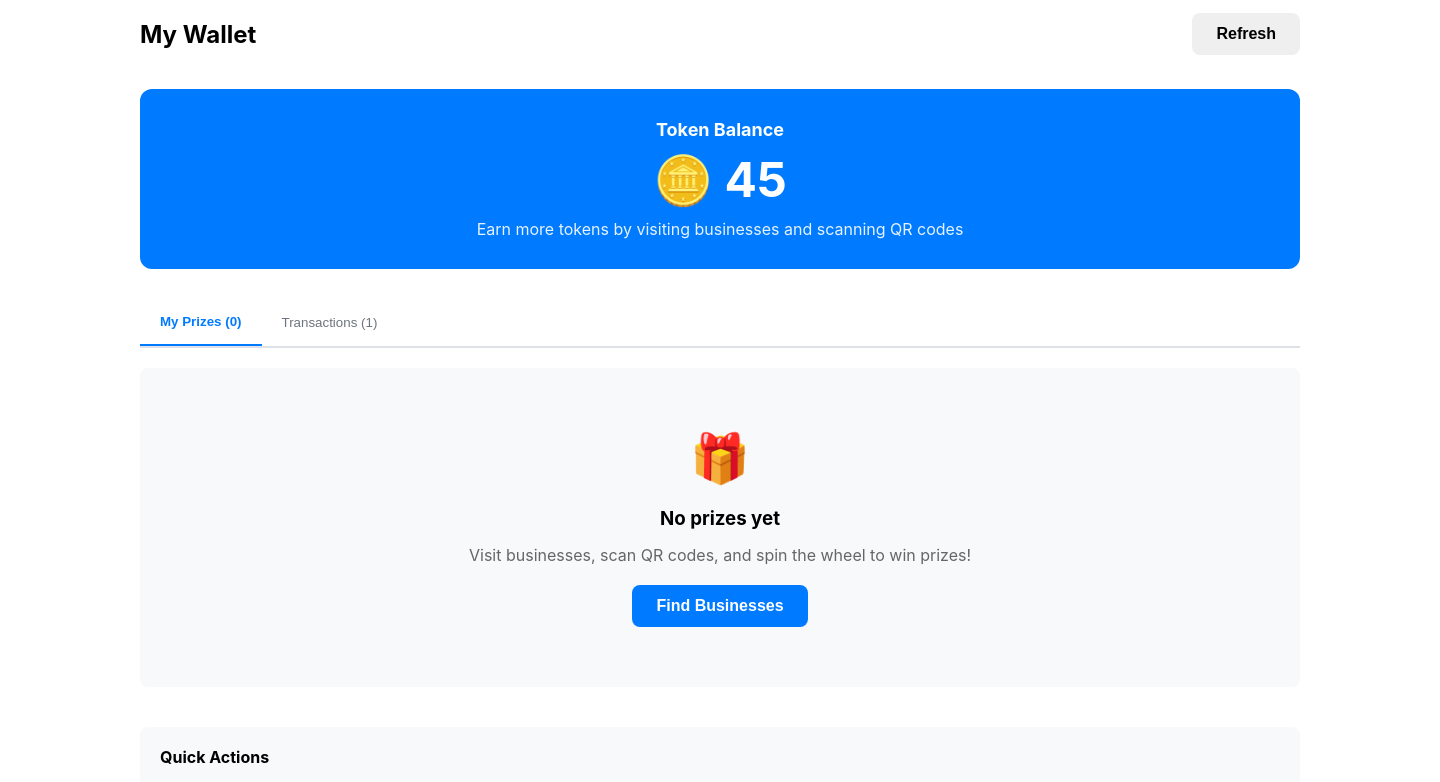
Scenario: Wallet Flow Integration Tests › switches between prizes and transactions tabs
Check: the heading "My Wallet" is shown, box [140,20,256,49]
// Switch to transactions tab
Click the button "Transactions (1)" at (329, 322), box [262,299,397,346]
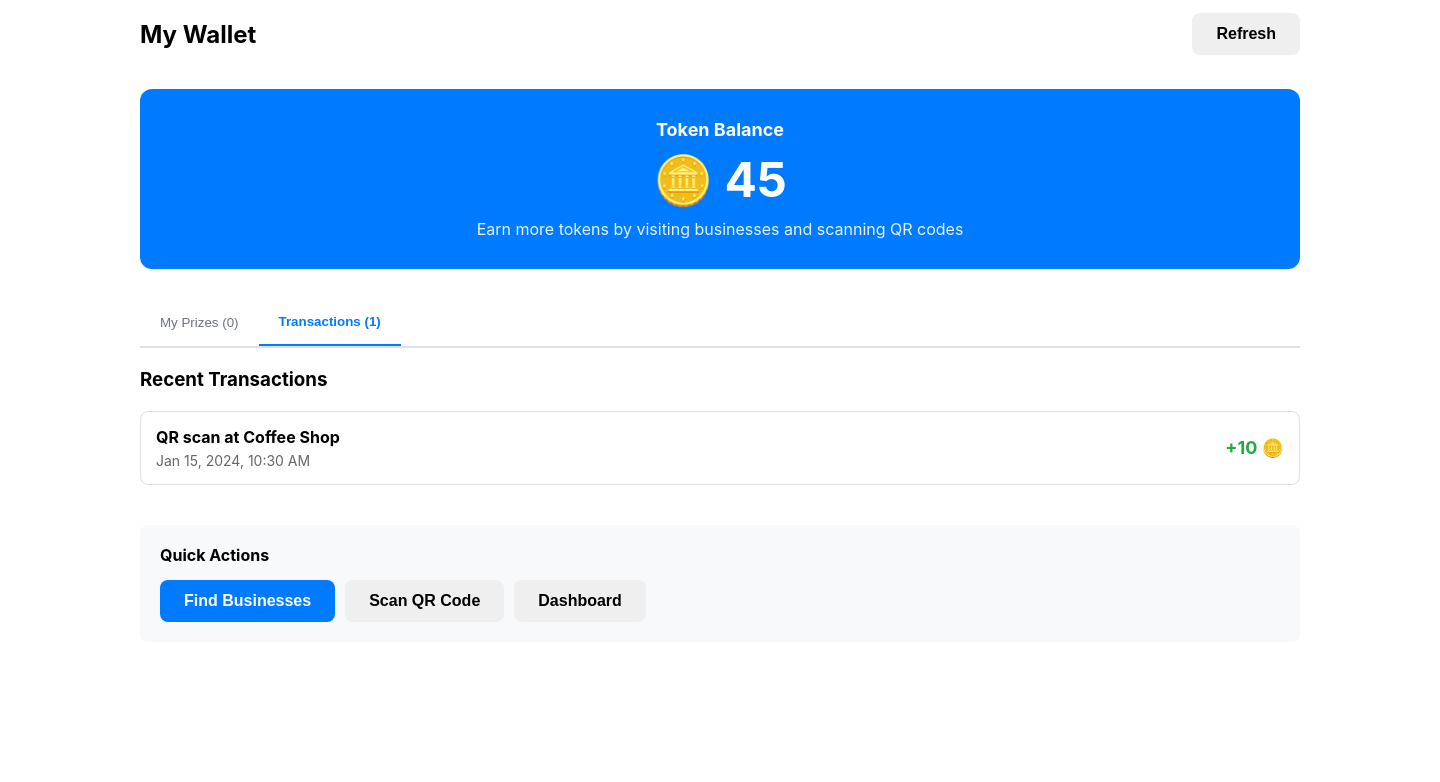
Check: the heading "Recent Transactions" is shown, box [140,368,327,391]
Check: the text "QR scan at Coffee Shop" is shown, box [156,427,340,447]
Check: the text "+10 🪙" is shown, box [1225,437,1284,458]
// Switch back to prizes tab
Click the button "My Prizes (0)" at (199, 322), box [140,299,258,346]
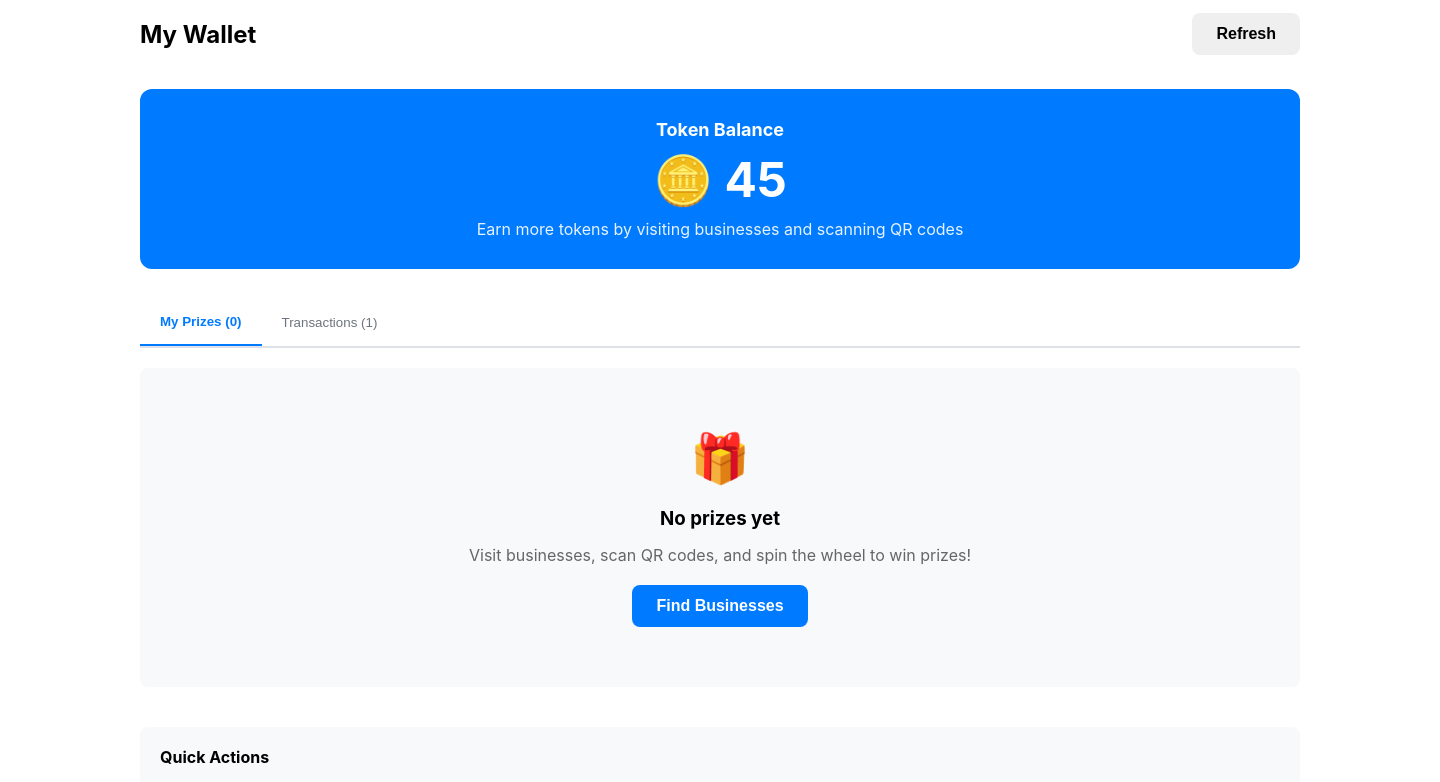
Check: the heading "No prizes yet" is shown, box [660,507,780,530]
Check: the text "Visit businesses, scan QR codes, and spin the wheel to win prizes!" is shown, box [469,545,971,565]
